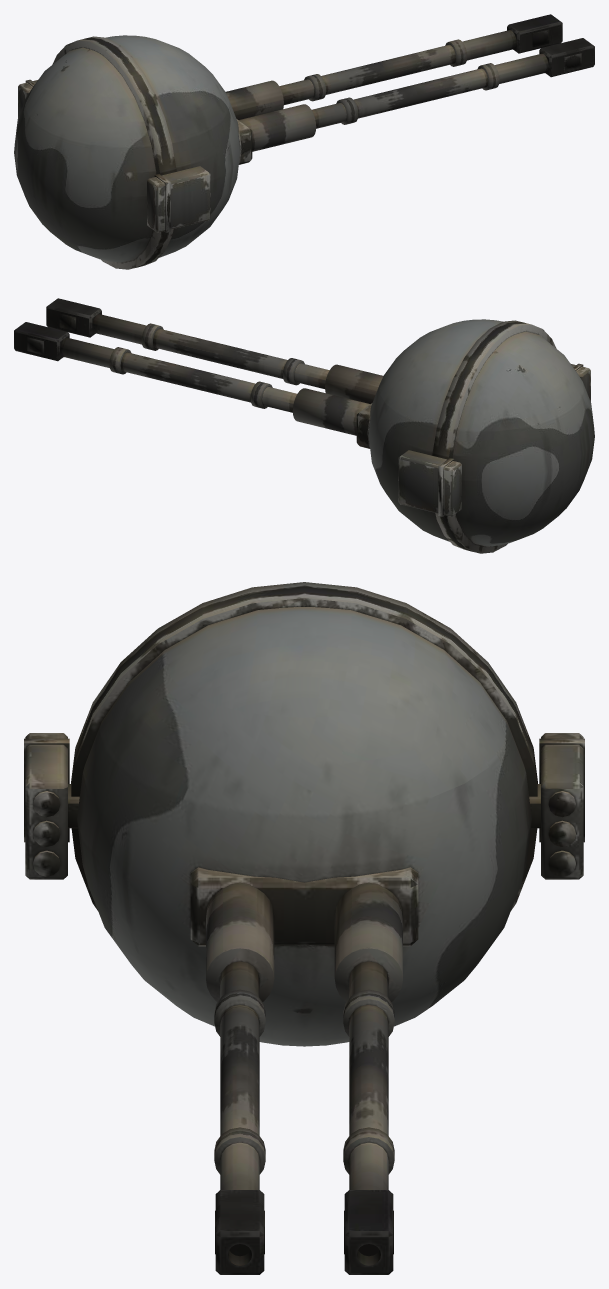
File: turret_kit_tail_ball_t2_shark.glb
The picture shows the model from 3 angles, top to bottom: view 1: azimuth 30°, elevation 25°; view 2: azimuth 150°, elevation 25°; view 3: azimuth 270°, elevation 25°; orthographic projection. The views are drawn at different scales.
Parts seen in each view (by area): view 1: turret_tail_ball_t2, pods; view 2: turret_tail_ball_t2, pods; view 3: turret_tail_ball_t2, pods.
Boxes of the visible parts, x1=… form: turret_tail_ball_t2: x1=14, y1=14, x2=594, y2=269; pods: x1=18, y1=79, x2=210, y2=232; turret_tail_ball_t2: x1=14, y1=298, x2=594, y2=553; pods: x1=398, y1=363, x2=590, y2=516; turret_tail_ball_t2: x1=71, y1=582, x2=537, y2=1274; pods: x1=24, y1=733, x2=584, y2=879.
Size of the model in its own units: 1.66 by 0.62 by 0.7402.
Materials: 2 (2 with a texture image).
